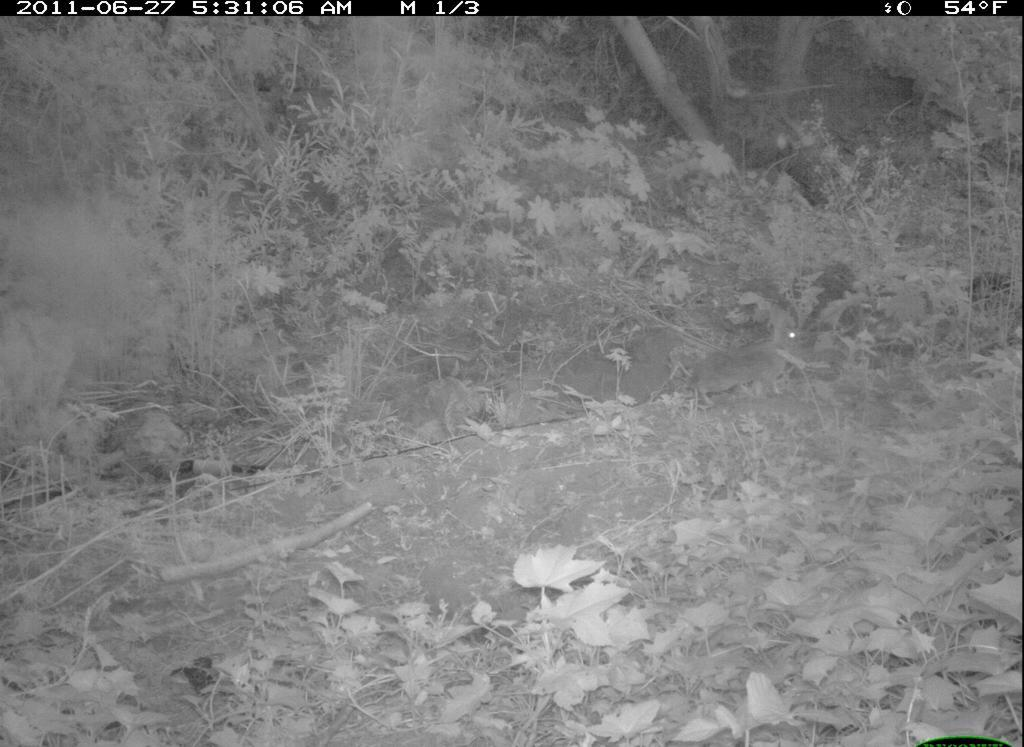rabbit: (666, 315, 809, 423)
